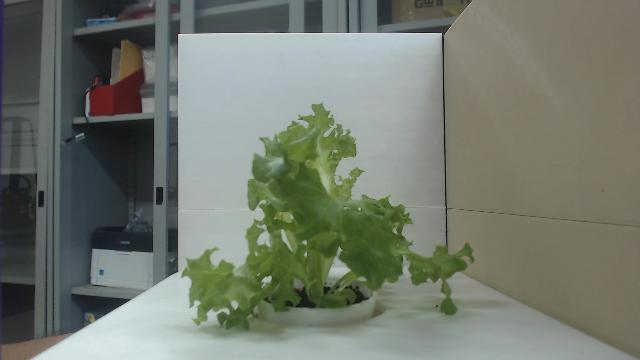Harvest Stage: (180, 103, 476, 333)
